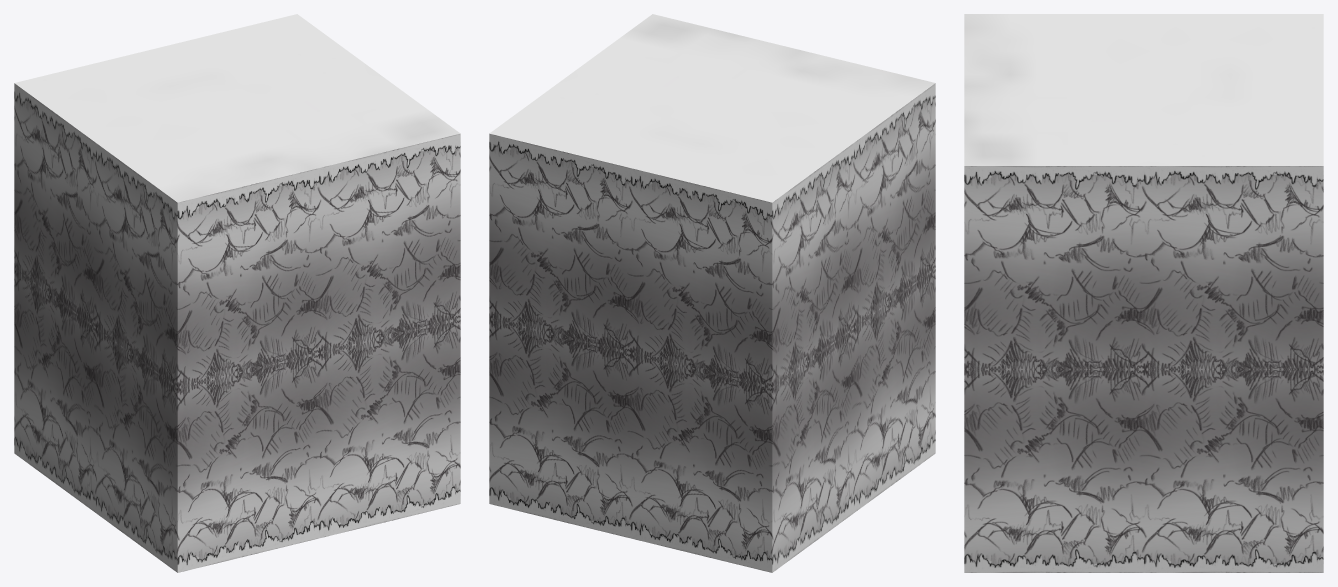
The model's file is 16x16x20_Basic.fbx.
3 renders of one model, left to right at view 1: azimuth 30°, elevation 25°; view 2: azimuth 150°, elevation 25°; view 3: azimuth 270°, elevation 25°, orthographic. The views are drawn at different scales.
Visible parts, largest first — view 1: 16x16x20_Basic; view 2: 16x16x20_Basic; view 3: 16x16x20_Basic.
Boxes of the visible parts, x1=… form: 16x16x20_Basic: x1=14, y1=14, x2=460, y2=572; 16x16x20_Basic: x1=489, y1=14, x2=935, y2=572; 16x16x20_Basic: x1=964, y1=14, x2=1323, y2=572.
Size of the model in its own units: 1600 by 2000 by 1600.
